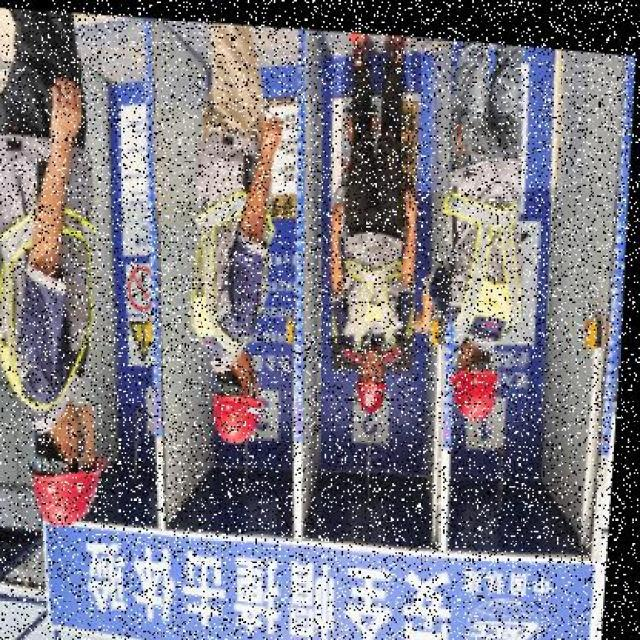helmet: (26, 429, 114, 525), (209, 376, 269, 446), (451, 349, 507, 415), (356, 359, 394, 407)
